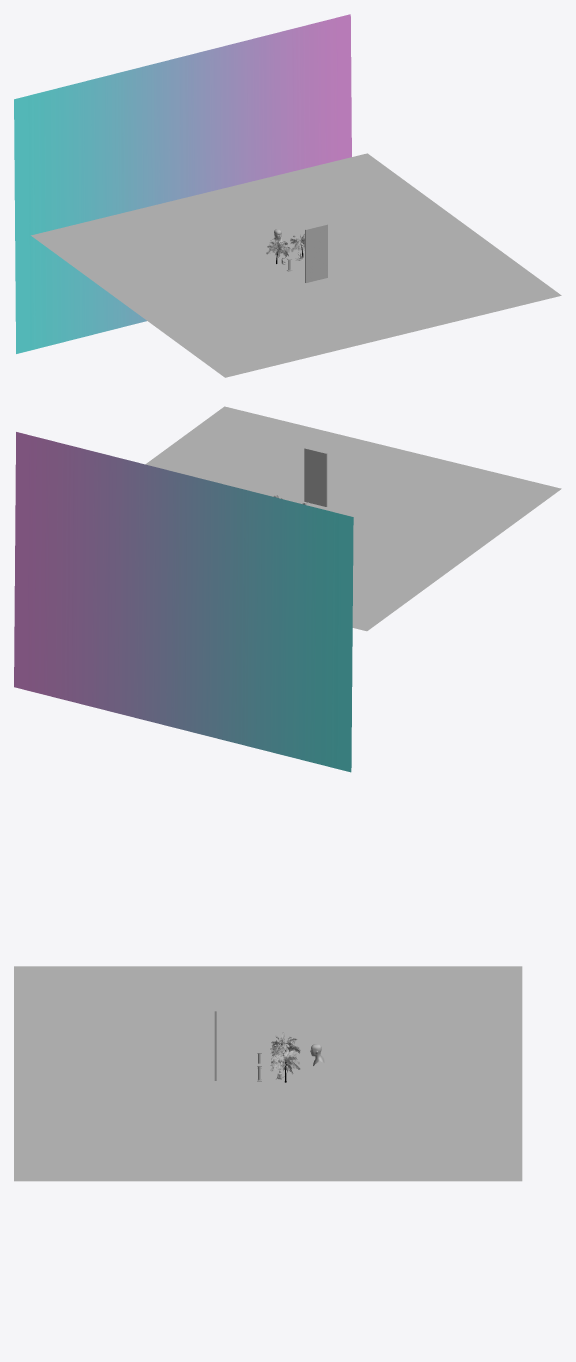
File: maya2sketchfab.fbx
3 renders of one model, top to bottom at view 1: azimuth 30°, elevation 25°; view 2: azimuth 150°, elevation 25°; view 3: azimuth 270°, elevation 25°, orthographic. The views are drawn at different scales.
Parts seen in each view (by area): view 1: pPlane1, pPlane2, pCube5; view 2: pPlane2, pPlane1, pCube5; view 3: pPlane1.
Boxes of the visible parts, x1,y1,x2,y2 form: pPlane1: (31,153,561,377); pPlane2: (14,14,351,353); pCube5: (305,224,327,282); pPlane2: (14,432,353,772); pPlane1: (145,406,561,631); pCube5: (304,448,327,506); pPlane1: (14,966,522,1181).
Bounding box in the file's own units: 252 × 184 × 270.
7 materials, 1 textured.
